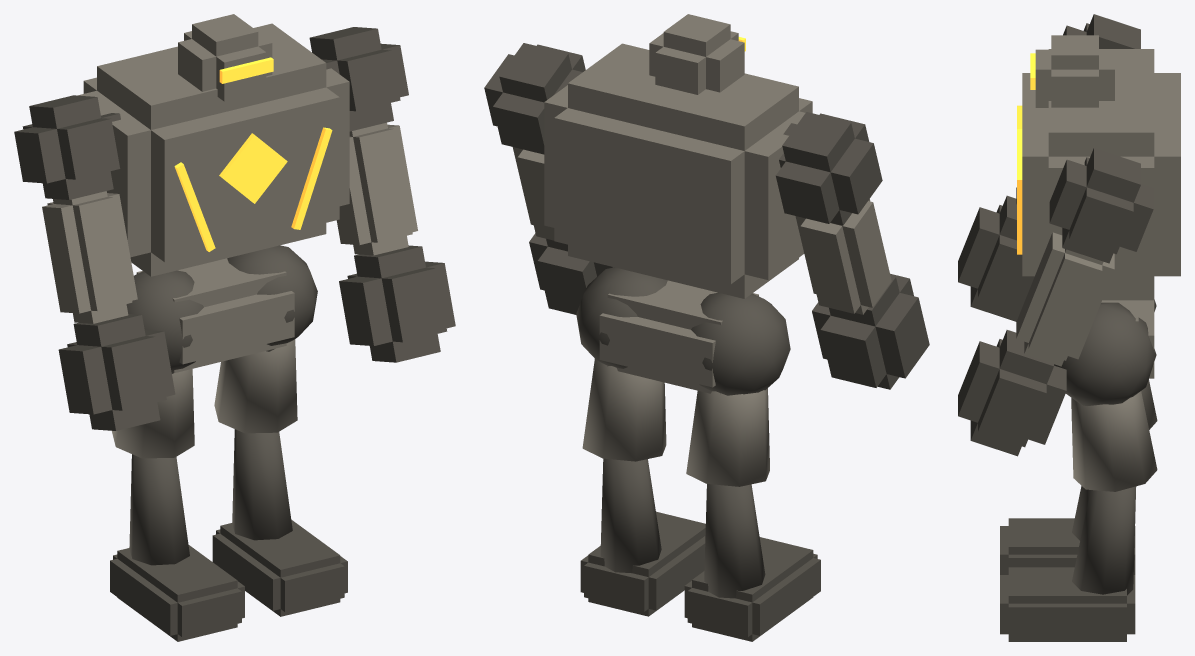
File: elven-golem.glb
3 renders of one model, left to right at view 1: azimuth 30°, elevation 25°; view 2: azimuth 150°, elevation 25°; view 3: azimuth 270°, elevation 25°, orthographic. The views are drawn at different scales.
Visible parts, largest first — view 1: Body Mesh, ArmR Mesh, ArmL Mesh, LegB 0 Knee Mesh, LegA 0 Knee Mesh, LegA 0 Mesh, LegB 0 Mesh, Head Mesh; view 2: Body Mesh, ArmR Mesh, LegB 0 Mesh, LegB 0 Knee Mesh, LegA 0 Knee Mesh, ArmL Mesh, LegA 0 Mesh, Head Mesh; view 3: ArmL Mesh, Body Mesh, LegA 0 Knee Mesh, LegA 0 Mesh, ArmR Mesh, Head Mesh, LegB 0 Knee Mesh, LegB 0 Mesh.
Part boxes in pixels (x1,y1,x2,y2): Body Mesh: [77, 23, 349, 372]; ArmR Mesh: [14, 95, 175, 430]; ArmL Mesh: [309, 27, 455, 362]; LegB 0 Knee Mesh: [110, 454, 244, 641]; LegA 0 Knee Mesh: [212, 429, 347, 616]; LegA 0 Mesh: [214, 245, 317, 433]; LegB 0 Mesh: [112, 270, 203, 458]; Head Mesh: [178, 14, 273, 101]; Body Mesh: [544, 43, 812, 393]; ArmR Mesh: [775, 112, 929, 389]; LegB 0 Mesh: [686, 292, 790, 486]; LegB 0 Knee Mesh: [684, 484, 820, 641]; LegA 0 Knee Mesh: [580, 458, 705, 616]; ArmL Mesh: [484, 43, 613, 314]; LegA 0 Mesh: [576, 267, 667, 461]; Head Mesh: [649, 14, 745, 94]; ArmL Mesh: [958, 148, 1153, 456]; Body Mesh: [1017, 49, 1180, 378]; LegA 0 Knee Mesh: [1000, 486, 1136, 641]; LegA 0 Mesh: [1054, 302, 1157, 491]; ArmR Mesh: [958, 14, 1140, 321]; Head Mesh: [1030, 35, 1114, 107]; LegB 0 Knee Mesh: [1000, 486, 1135, 574]; LegB 0 Mesh: [1141, 299, 1157, 429].
Bounding box in the file's own units: 1.55 × 2.33 × 0.8432.
